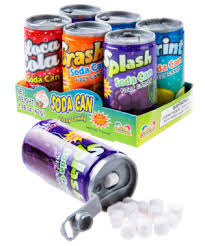can: (16, 1, 190, 110), (20, 120, 136, 208)
